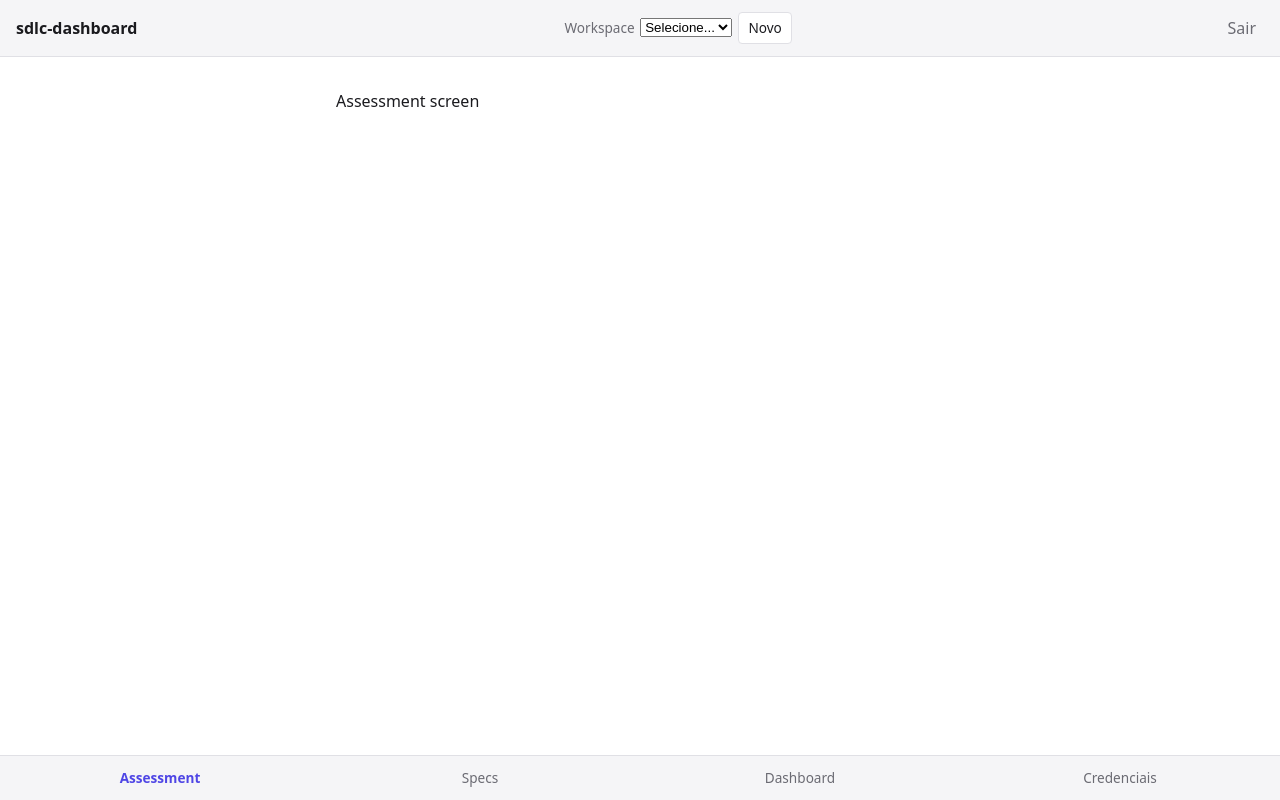
Layout › "Novo" opens a form that creates a workspace and selects it
Expected: the text "Assessment screen" is shown, [336,90,479,112]
Click the button "Novo" at x=765, y=28, box [738,12,792,44]
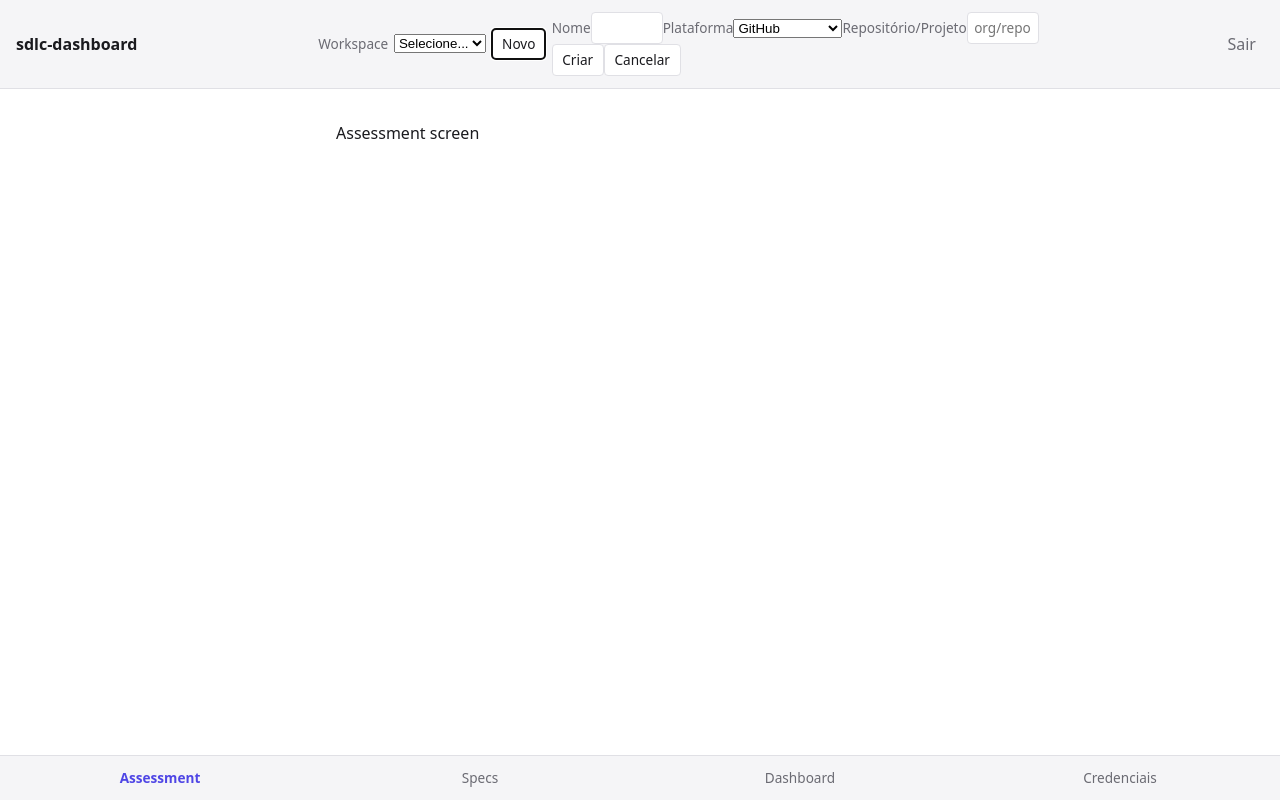
Type "New Workspace" into the field labelled "Nome" at x=627, y=28, box [591,12,663,44]
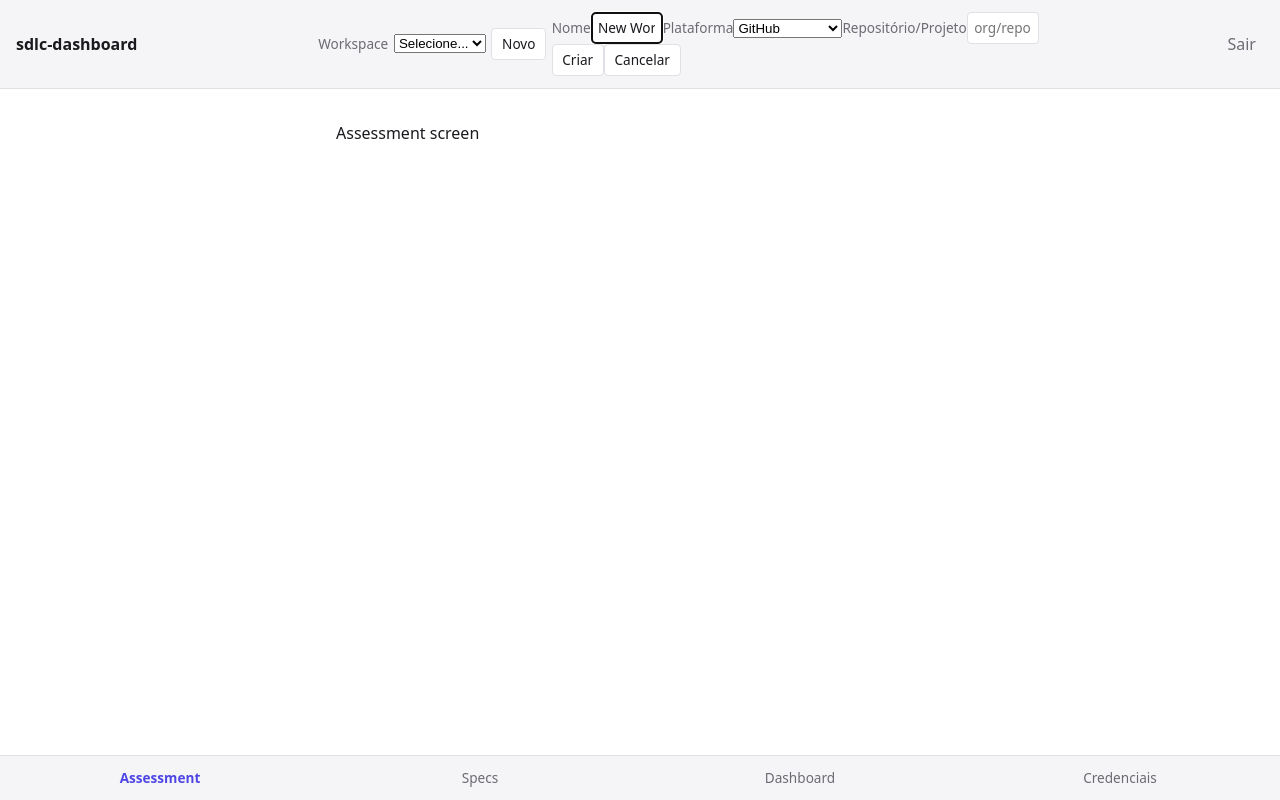
Type "acme/new-workspace" into the field labelled "Repositório/Projeto" at x=1003, y=28, box [967,12,1039,44]
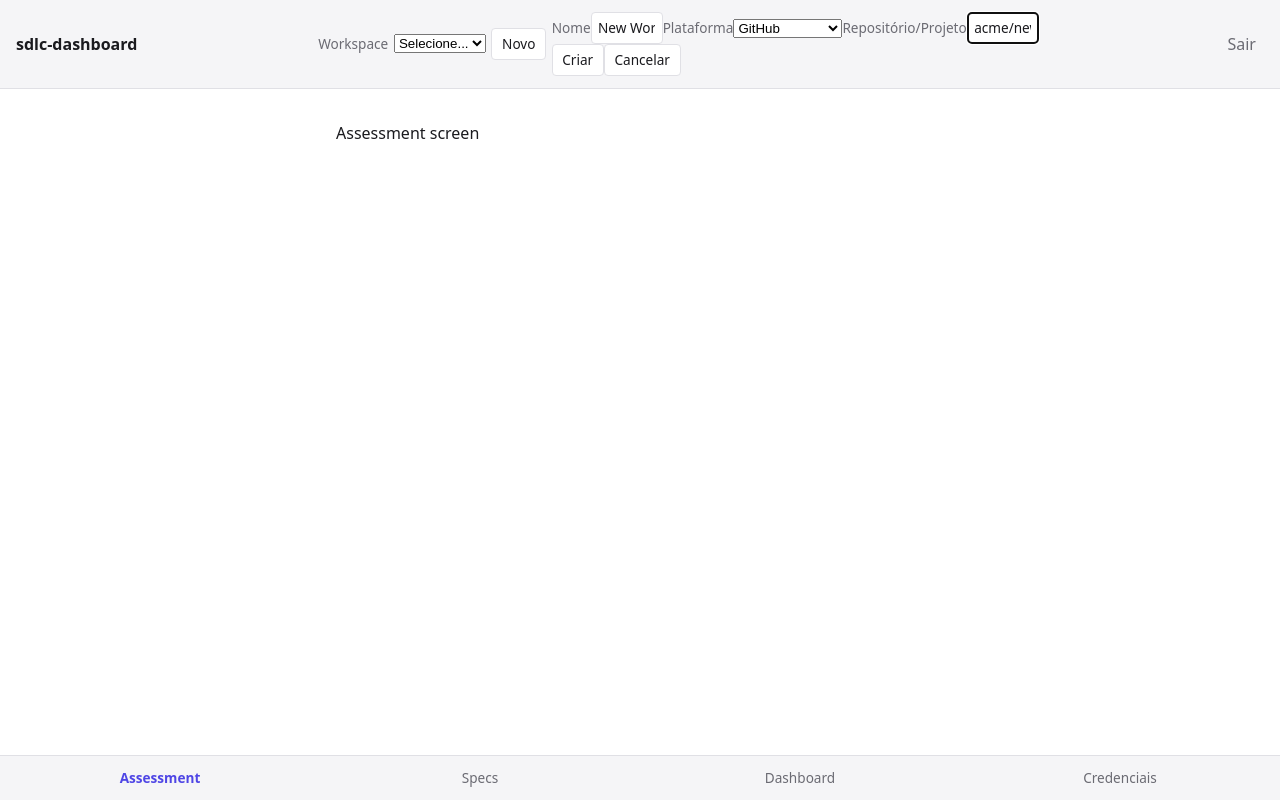
Click the button "Criar" at x=578, y=60, box [552,44,604,76]
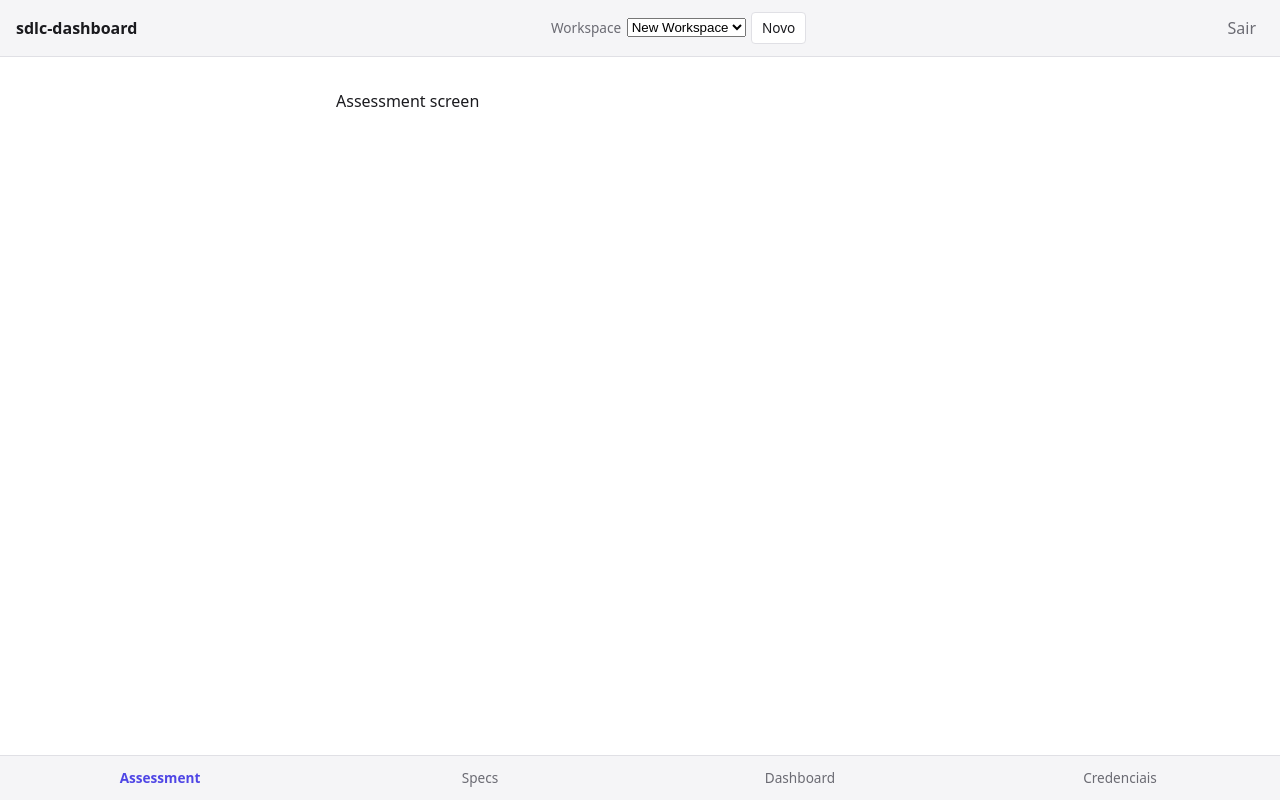
Expected: the dropdown labelled "Workspace" shows "New Workspace", [627,18,746,38]
Expected: the label labelled "Nome" is gone
